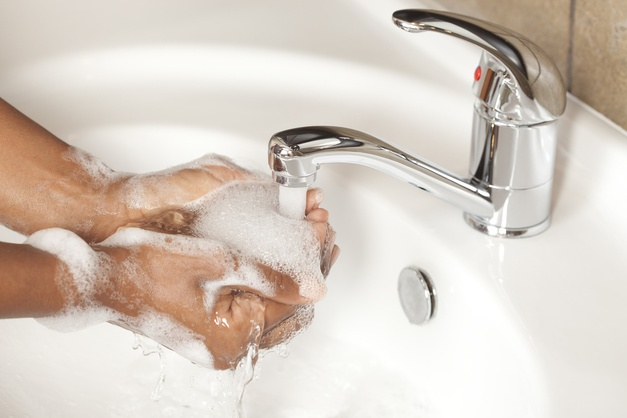washing hand: (51, 10, 505, 401)
